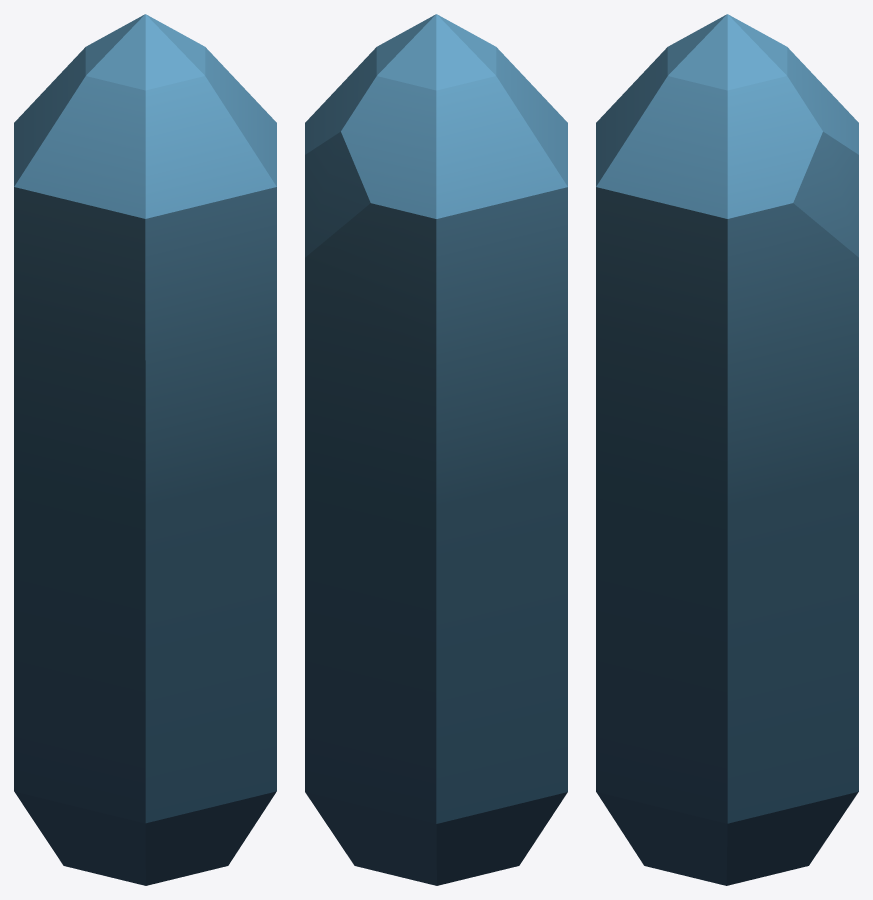
Rendered from geology-crystals-icecrystal_v5.fbx.
3 views of the same model, side by side, from view 1: azimuth 30°, elevation 25°; view 2: azimuth 150°, elevation 25°; view 3: azimuth 270°, elevation 25° (orthographic).
Parts seen in each view (by area): view 1: IceCrystal_v5; view 2: IceCrystal_v5; view 3: IceCrystal_v5.
Boxes of the visible parts, x1,y1,x2,y2 form: IceCrystal_v5: [14, 14, 276, 885]; IceCrystal_v5: [305, 14, 567, 885]; IceCrystal_v5: [596, 14, 858, 885].
Bounding box in the file's own units: 2.21 × 6.92 × 1.92.
